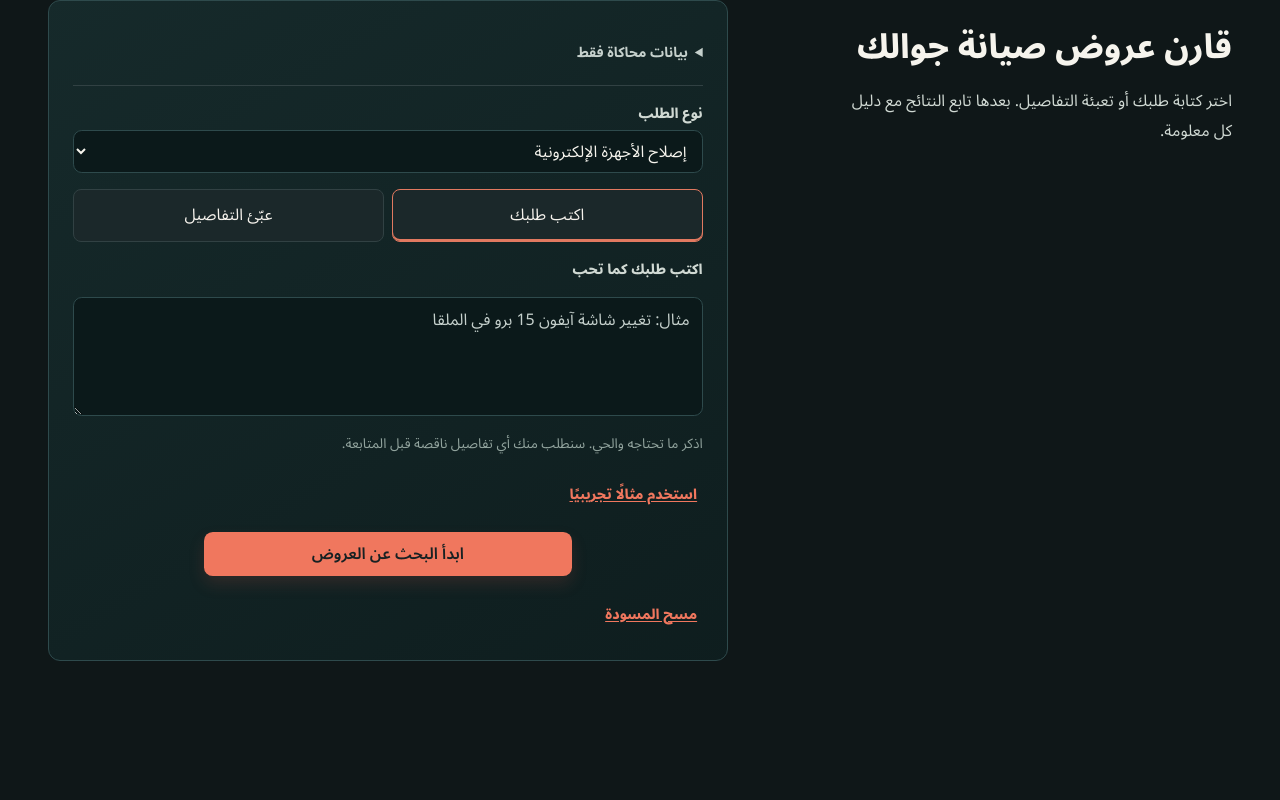
Test: fixture task flow › shows a safe Arabic error without exposing transport details
The width and height of the screenshot is (1280, 800).
Type "أبي أغير شاشة جوالي" into the text box named "وش تبي تصلّح؟" at x=388, y=356, box [73, 297, 703, 416]
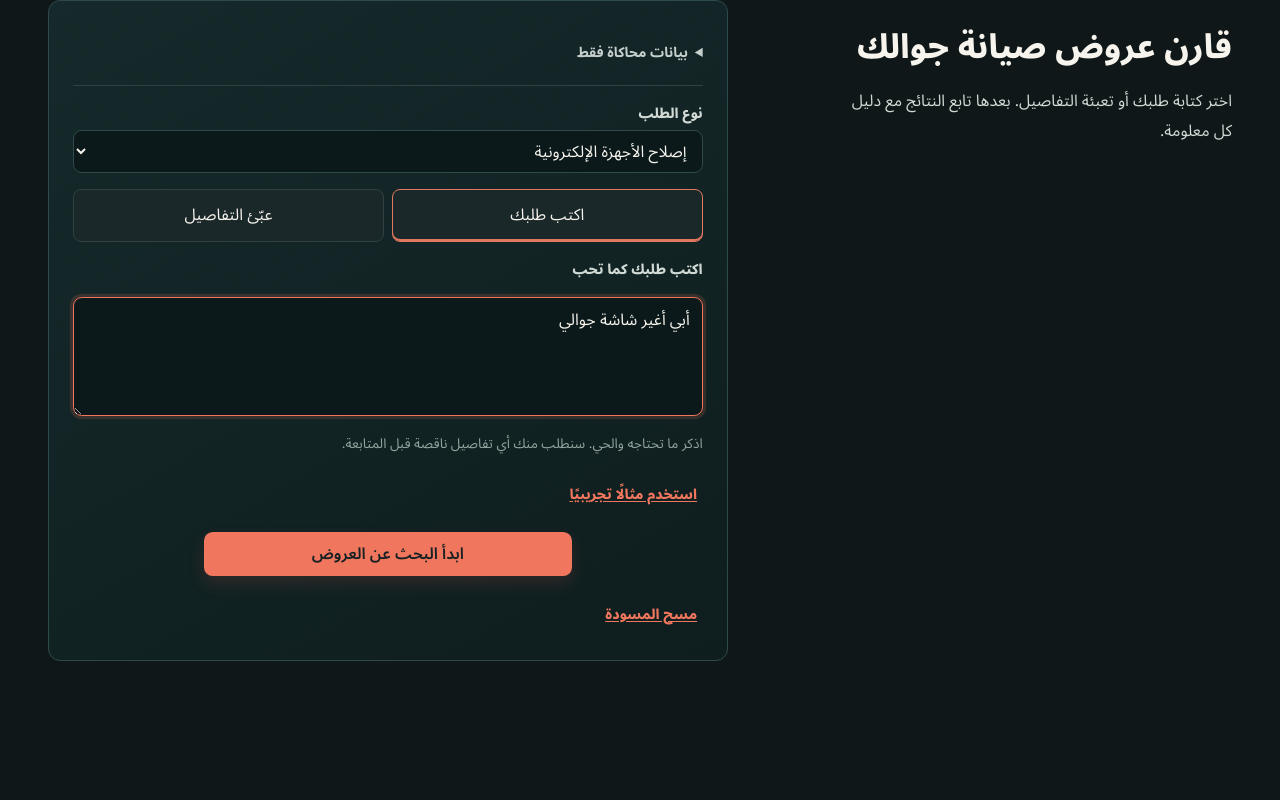
Click the button "ابدأ البحث عن العروض" at x=388, y=554, box [204, 532, 572, 576]
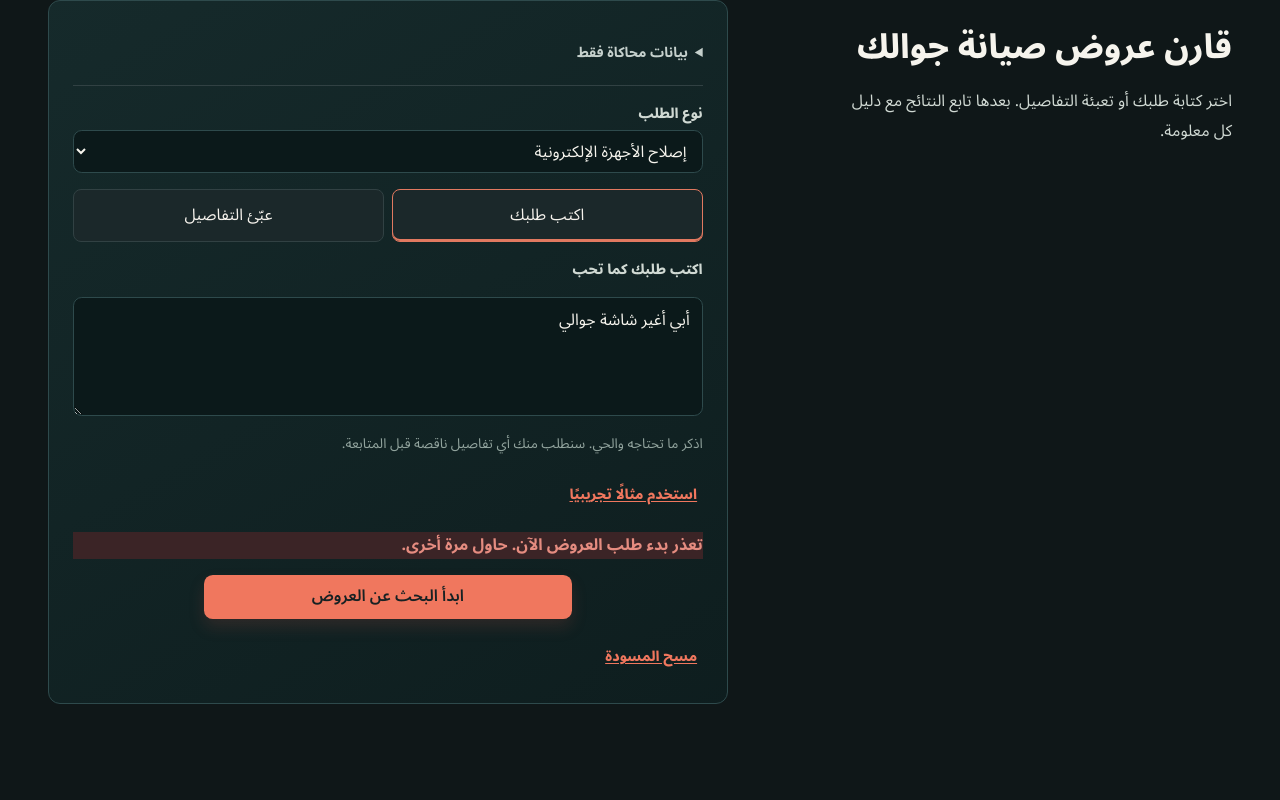
Now the message reads "تعذر بدء طلب العروض الآن. حاول مرة أخرى.", box [402, 528, 703, 562]
